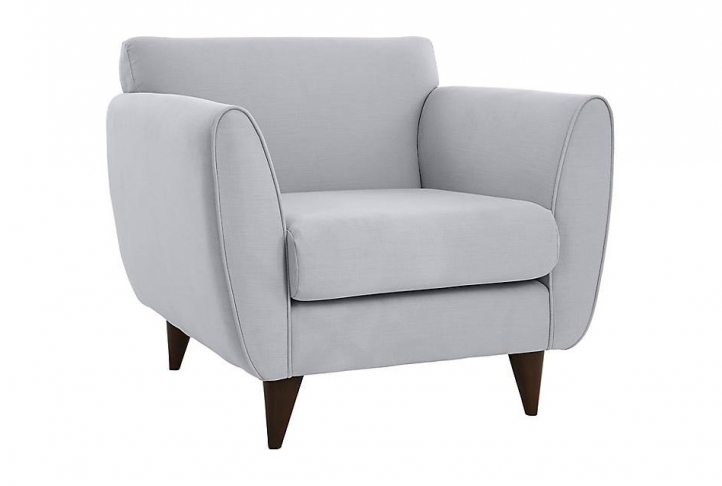chairs: (85, 35, 615, 454)
